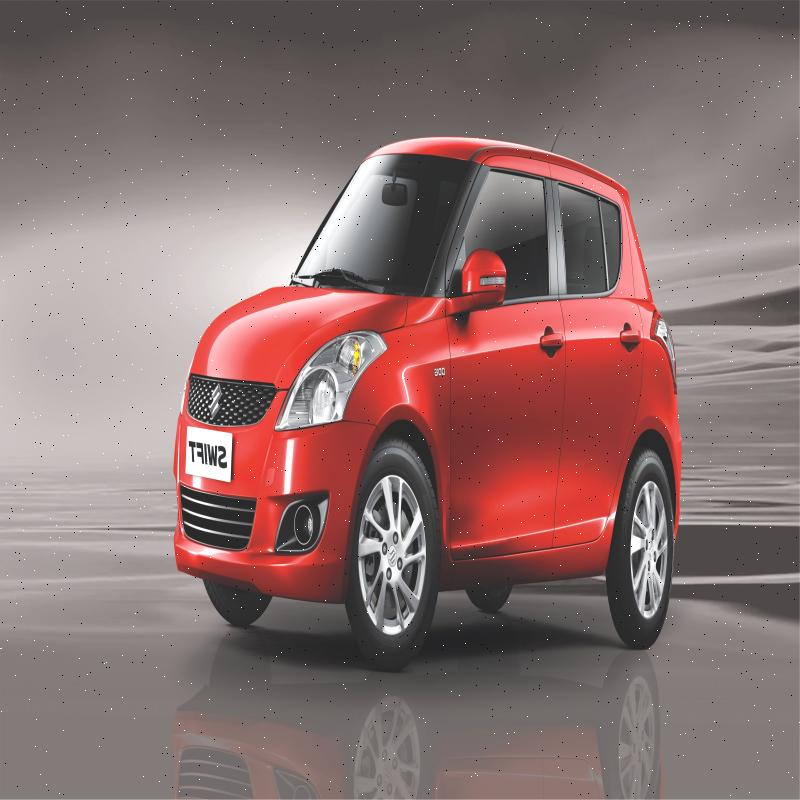car: (138, 115, 694, 678)
